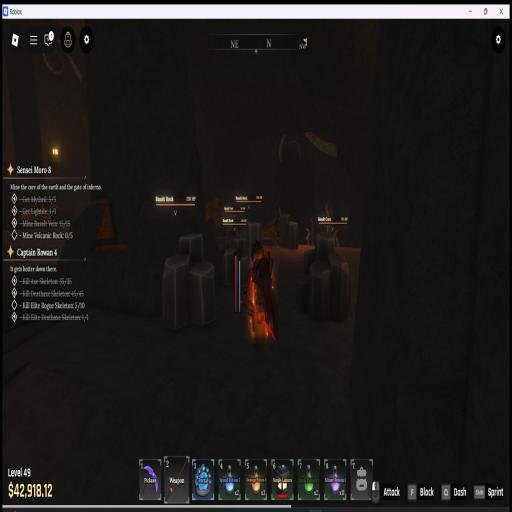player: (247, 240, 279, 346)
rock: (163, 234, 216, 329), (297, 233, 351, 321), (223, 239, 250, 288), (245, 222, 263, 256), (222, 248, 235, 285), (226, 226, 246, 247), (279, 214, 290, 248), (225, 227, 235, 248)
